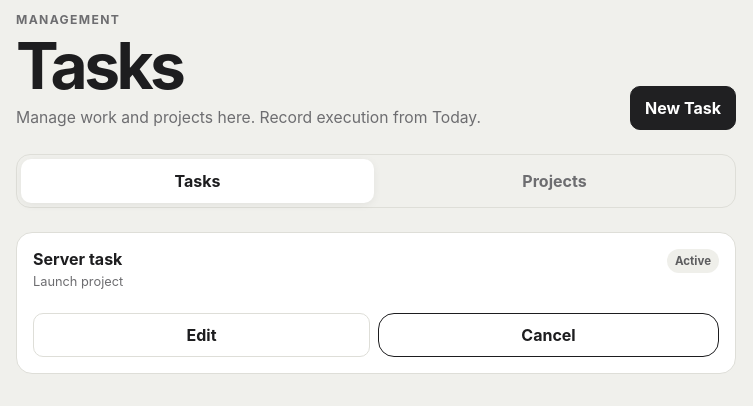
Test: Task + Project management surface › renders task and project data returned by repositories
Expected: the heading "Server task" is shown, [33,249,123,270]
Expected: the text "Launch project" is shown, [33,274,123,289]
Click the tab "Projects".
click(554, 181)  # box [378,159,731,203]
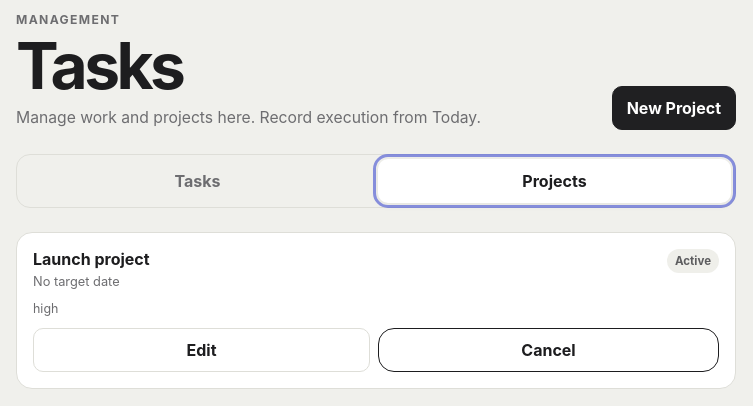
Expected: the heading "Launch project" is shown, [33,249,150,270]
